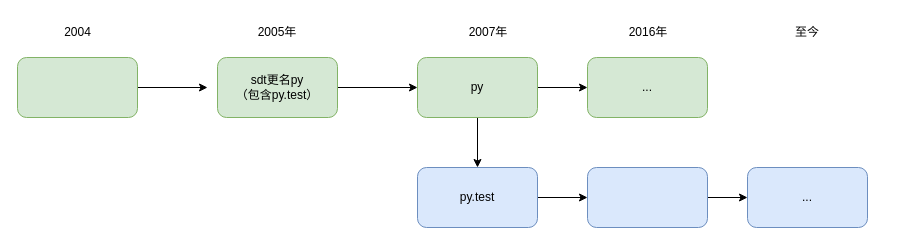
This 905x245 diagram has some shape labels left out. The shapes that lost their labels are listed below. From the top down, each one's box as (x1, y1, x2, y2) in pixels, then its label:
(16, 56, 138, 118): sdt (包含py.test）
(586, 166, 708, 228): py.test更名pytest
